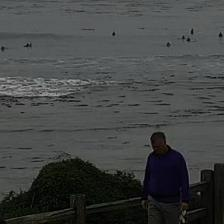surfer: (24, 43, 33, 48), (190, 28, 194, 34), (219, 32, 223, 38), (112, 31, 116, 36), (187, 37, 191, 42), (1, 46, 5, 50), (182, 35, 186, 39), (167, 42, 170, 46)
